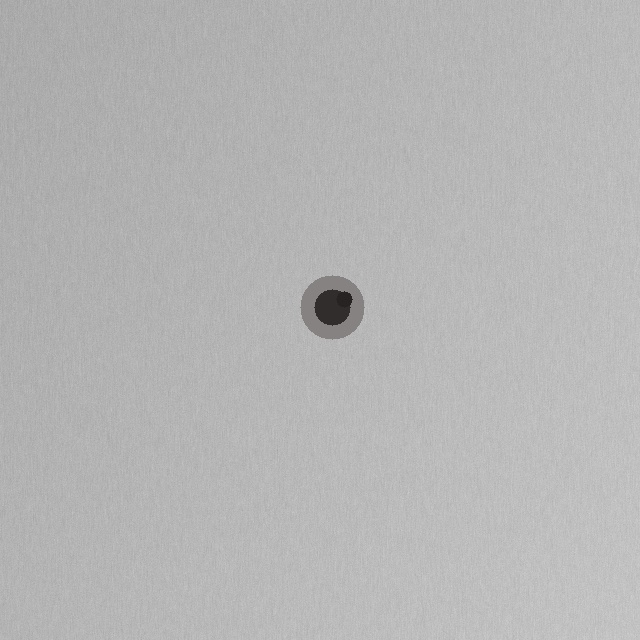inclusion: (120, 150, 480, 490)
